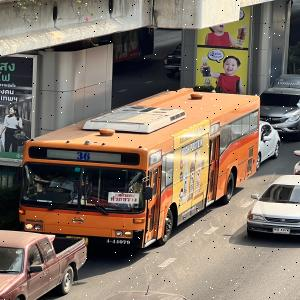BMTA-bus: (18, 88, 261, 250)
Bus Line Number: (72, 148, 97, 163)
Bus Side Number: (105, 238, 132, 246)
Destination Sign: (108, 192, 139, 203)
